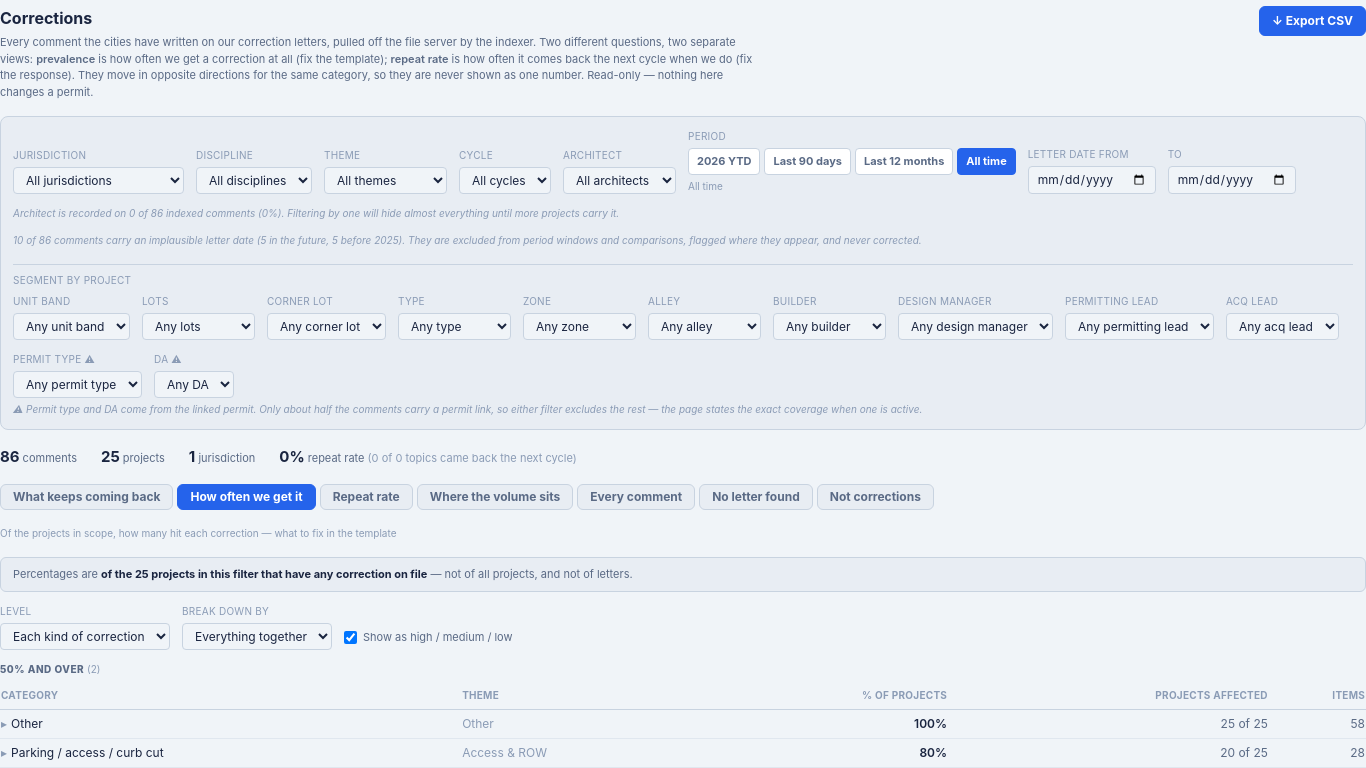
Test: fix-281 expanding a prevalence row shows the actual corrections › renders the body text IN FULL — it is the payload
The width and height of the screenshot is (1366, 768).
(page scrolled)
Expected: the element with test id "corrections-prevalence" is shown, [0,557,1365,767]
What coordinates should you click on to do the following:
click the row "▸Parking / access / curb cut Access & ROW 80% 20 of 25 28"
I would click on:
 (683, 752)
Its box is [0,738,1365,767].
(page scrolled)
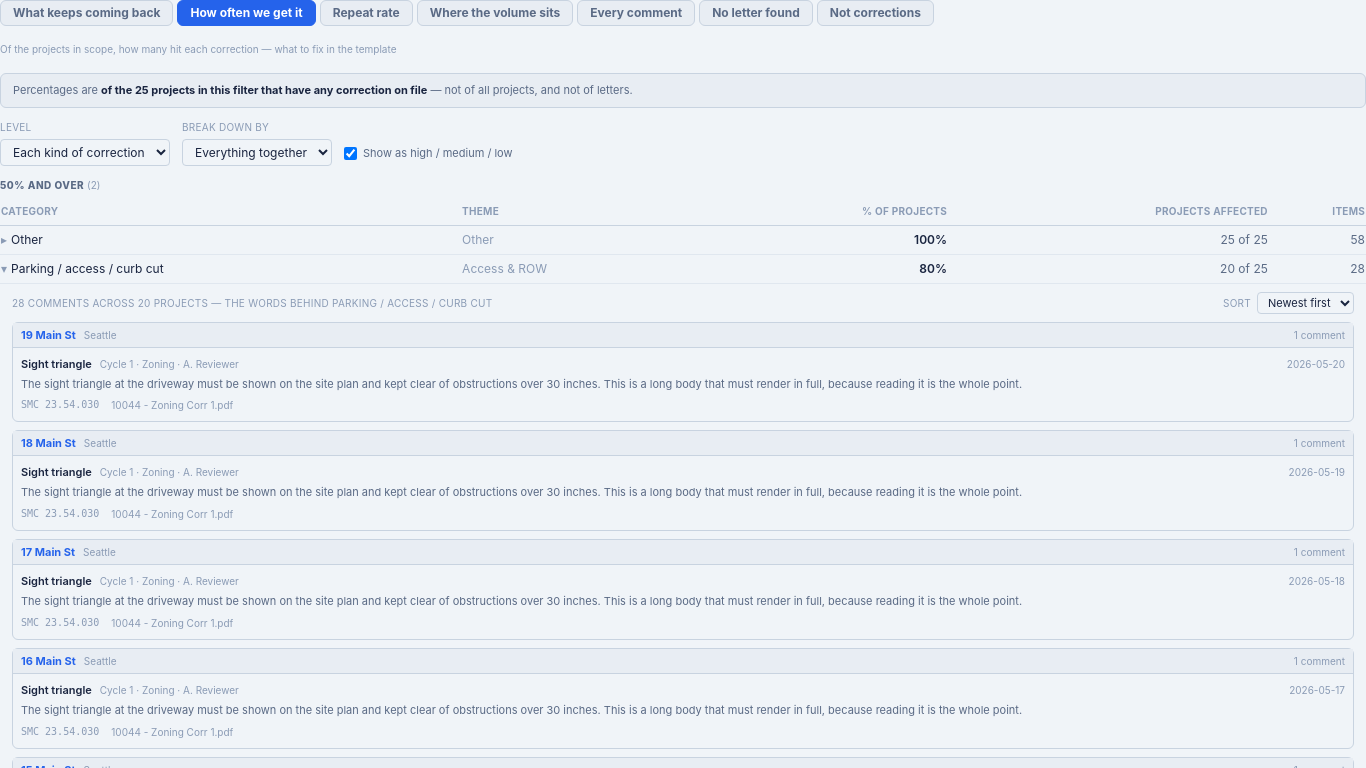
Now the text with test id "^comment-body-" shows "kept clear of obstructions over 30 inches", box [21,376,1022,390]
Now the text with test id "^comment-body-" shows "reading it is the whole point", box [21,376,1022,390]
